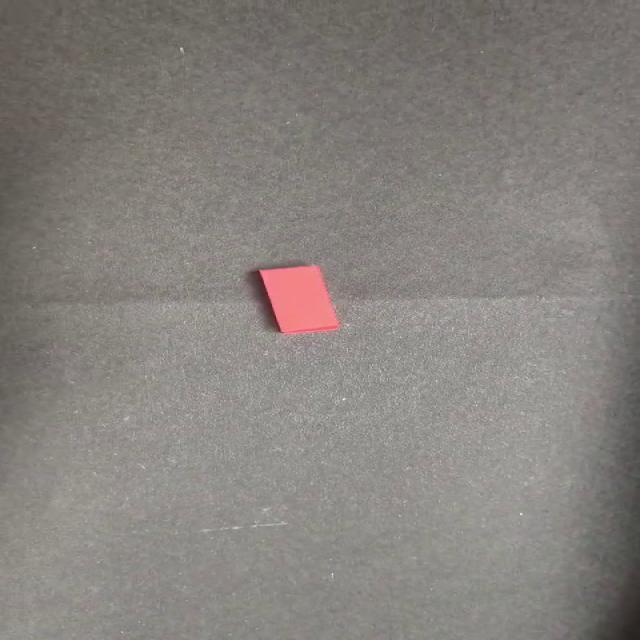red block: (256, 264, 340, 333)
